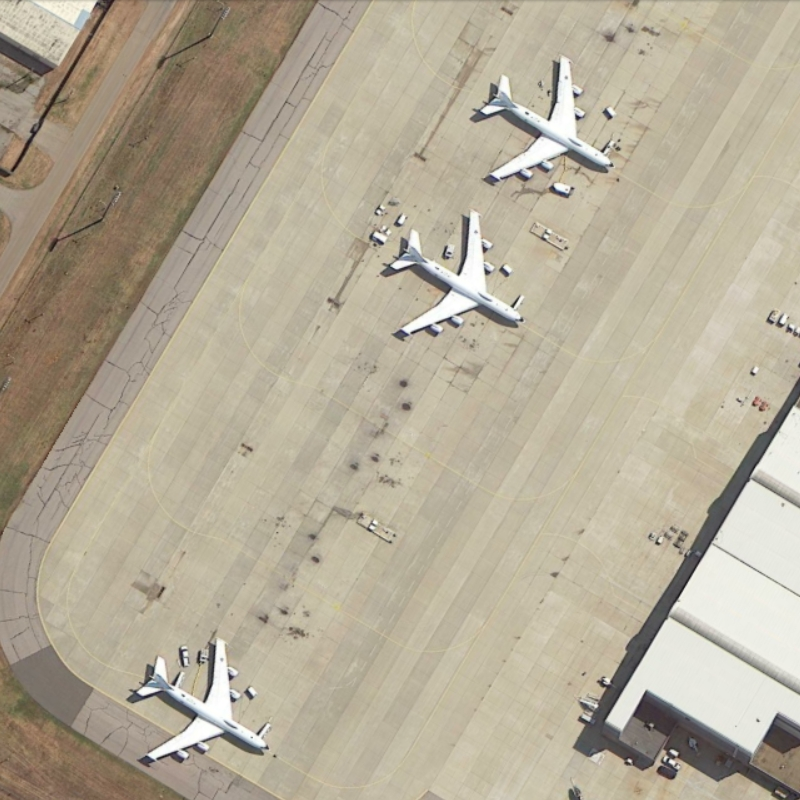A11: (123, 629, 280, 771), (467, 53, 625, 185), (382, 205, 533, 342)
